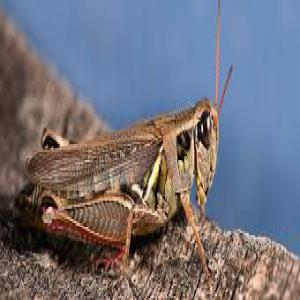locust: (29, 48, 243, 250)
